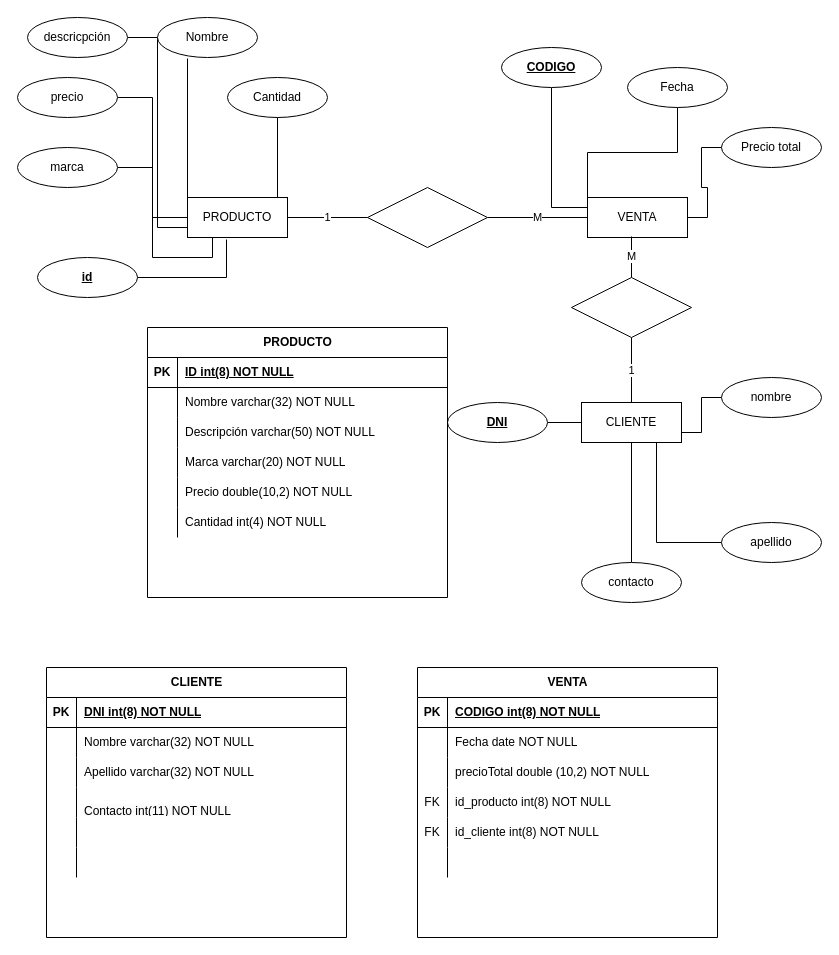
This 839x955 diagram has some shape labels left out. Each missing label, with the centre of its shape:
"HACE" goes at [631,307].
"TIENE" goes at [427,217].
